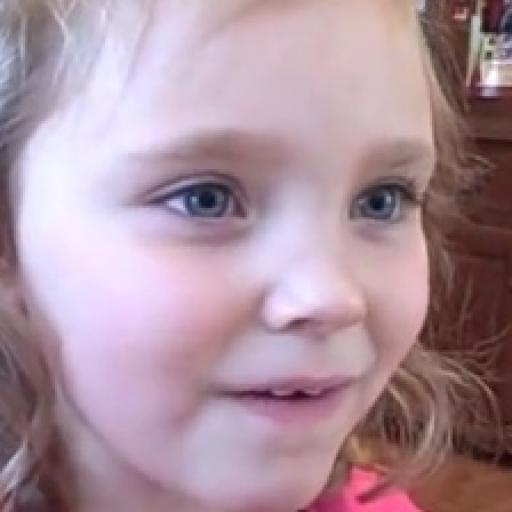Autism: (3, 2, 468, 512)
